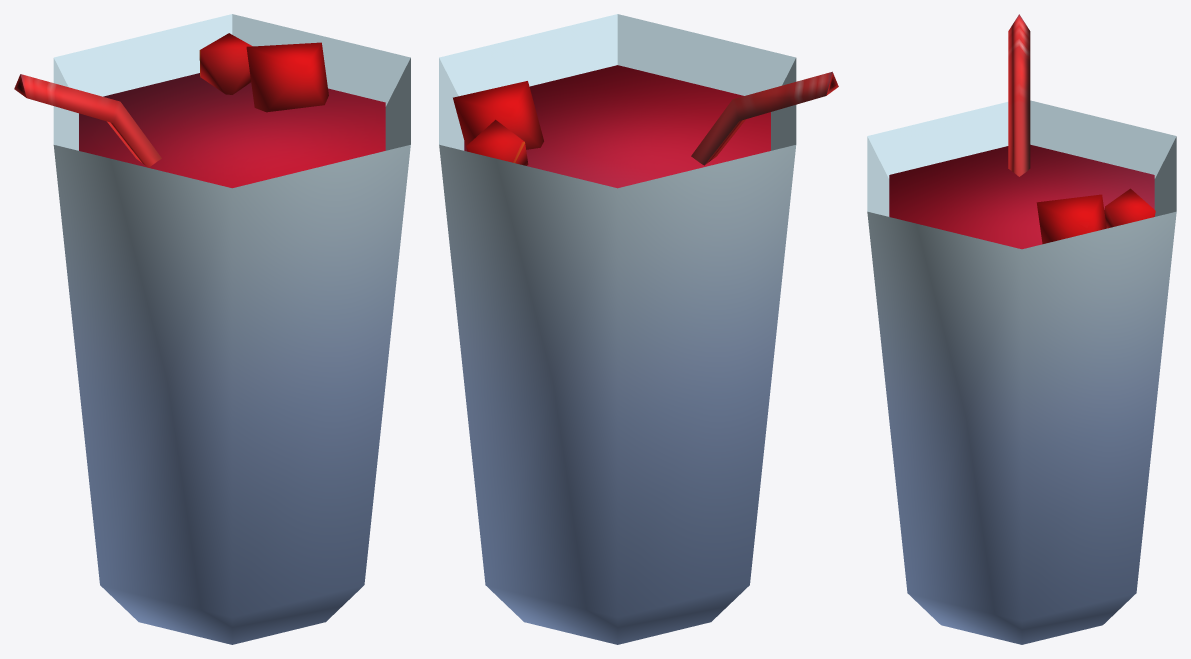
File: Cocktail_03.fbx
3 renders of one model, left to right at view 1: azimuth 30°, elevation 25°; view 2: azimuth 150°, elevation 25°; view 3: azimuth 270°, elevation 25°, orthographic. The views are drawn at different scales.
Visible parts, largest first — view 1: Cocktail_03; view 2: Cocktail_03; view 3: Cocktail_03.
Boxes of the visible parts, x1=… form: Cocktail_03: x1=14, y1=14, x2=410, y2=644; Cocktail_03: x1=439, y1=14, x2=838, y2=644; Cocktail_03: x1=867, y1=14, x2=1176, y2=644.
Bounding box in the file's own units: 7.38 × 10.41 × 5.83.
